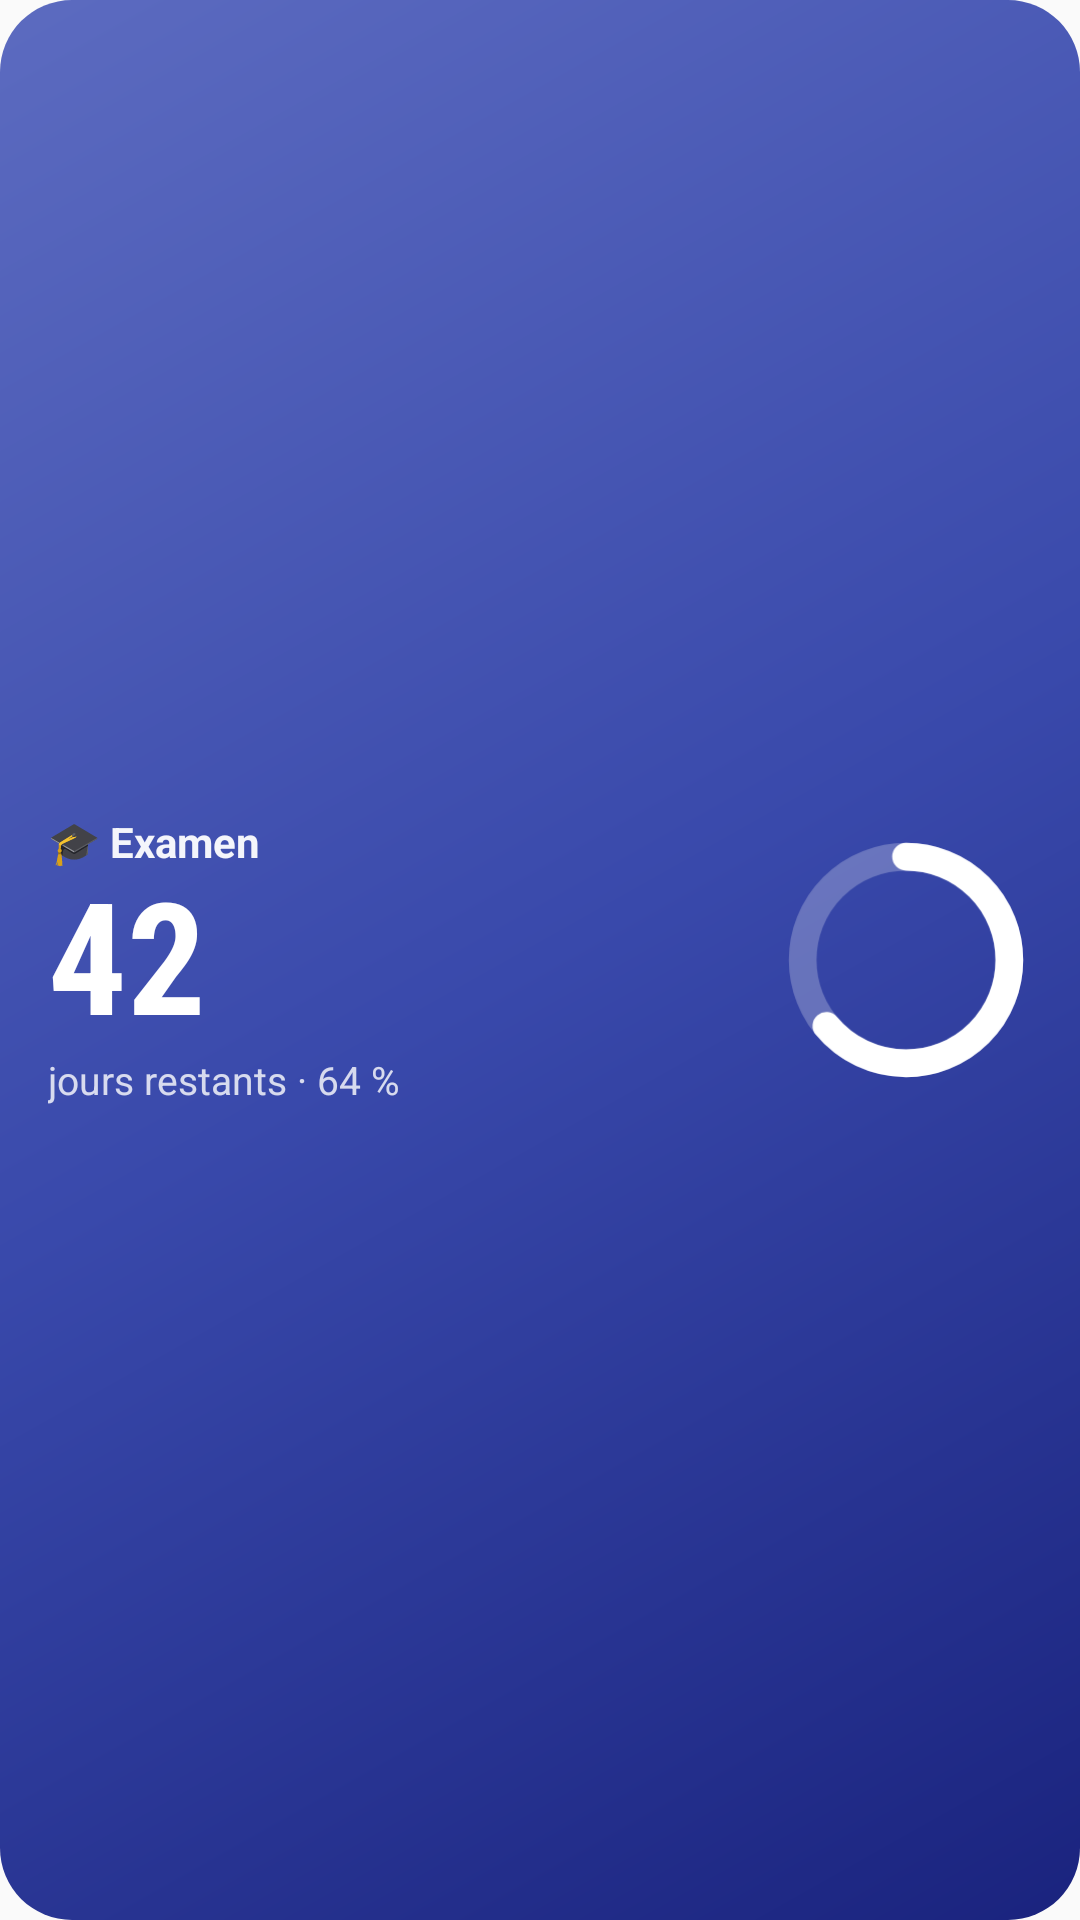

Point at icon controls on the screen. Image size 1080px x 1920px, points as point (x, y).
widget ring: point (906, 960)
